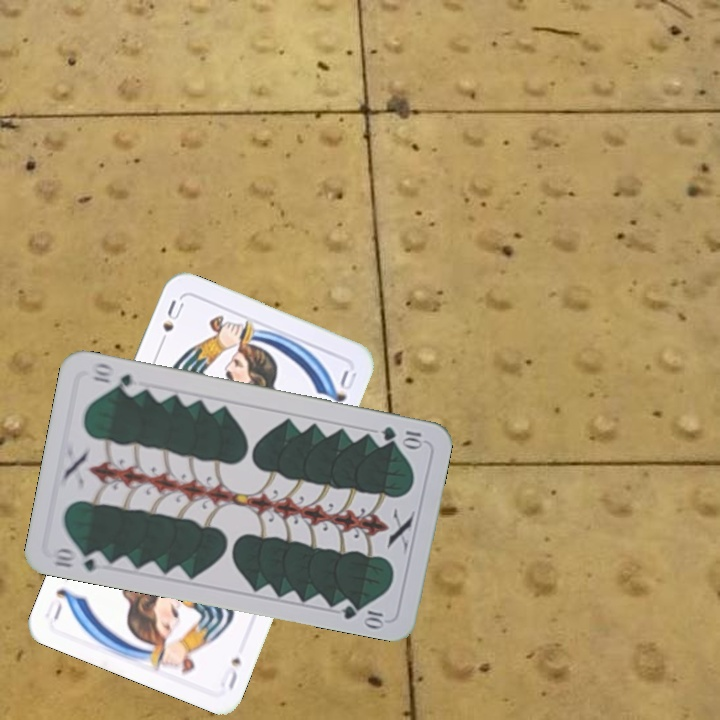G10: (48, 544, 109, 574), (377, 422, 425, 449)
SU: (154, 296, 187, 351), (216, 653, 244, 692)
